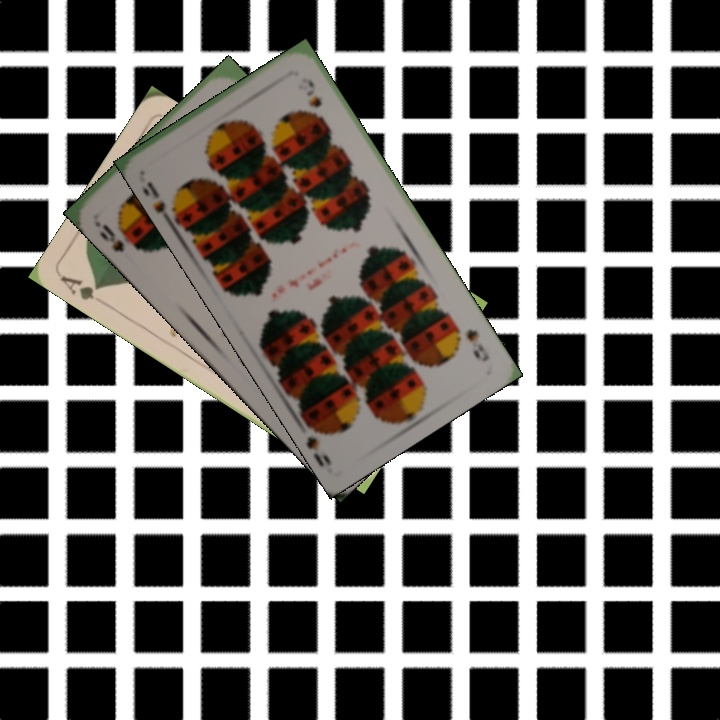GA: (56, 272, 105, 303)
S9: (140, 177, 185, 223), (462, 324, 493, 365)
SO: (90, 216, 145, 255)
